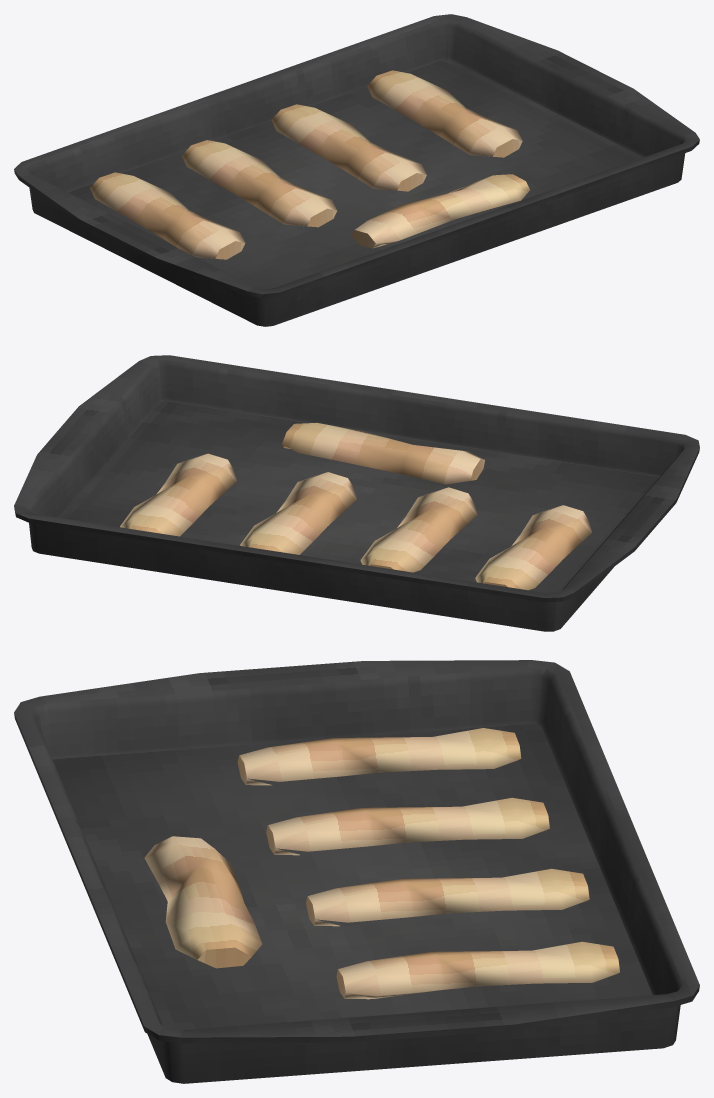
File: BakingTrayLadyfingers.fbx
3 views of the same model, one above another, from view 1: azimuth 30°, elevation 25°; view 2: azimuth 150°, elevation 25°; view 3: azimuth 270°, elevation 25° (orthographic). The views are drawn at different scales.
Parts seen in each view (by area): view 1: BakingTrayLadyfingers; view 2: BakingTrayLadyfingers; view 3: BakingTrayLadyfingers.
Part boxes in pixels (x1=…): BakingTrayLadyfingers: x1=14, y1=14, x2=699, y2=326; BakingTrayLadyfingers: x1=14, y1=355, x2=699, y2=631; BakingTrayLadyfingers: x1=14, y1=660, x2=699, y2=1083.
Size of the model in its own units: 105 by 7.31 by 80.46.
